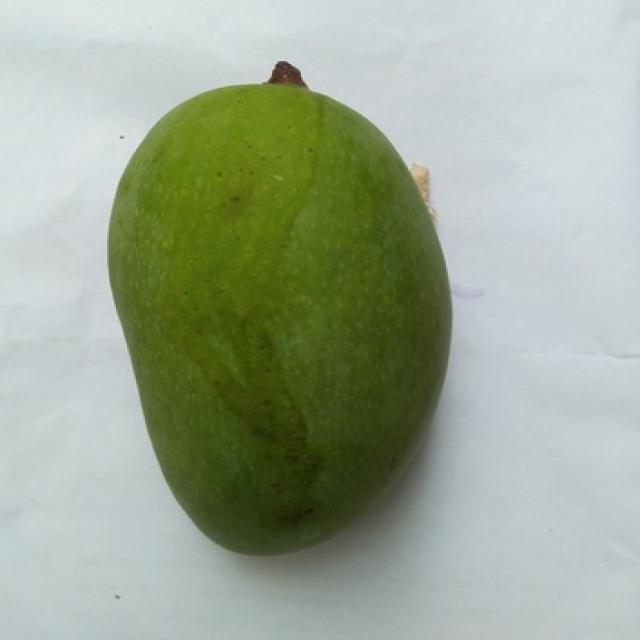Mango: (109, 63, 450, 554)
